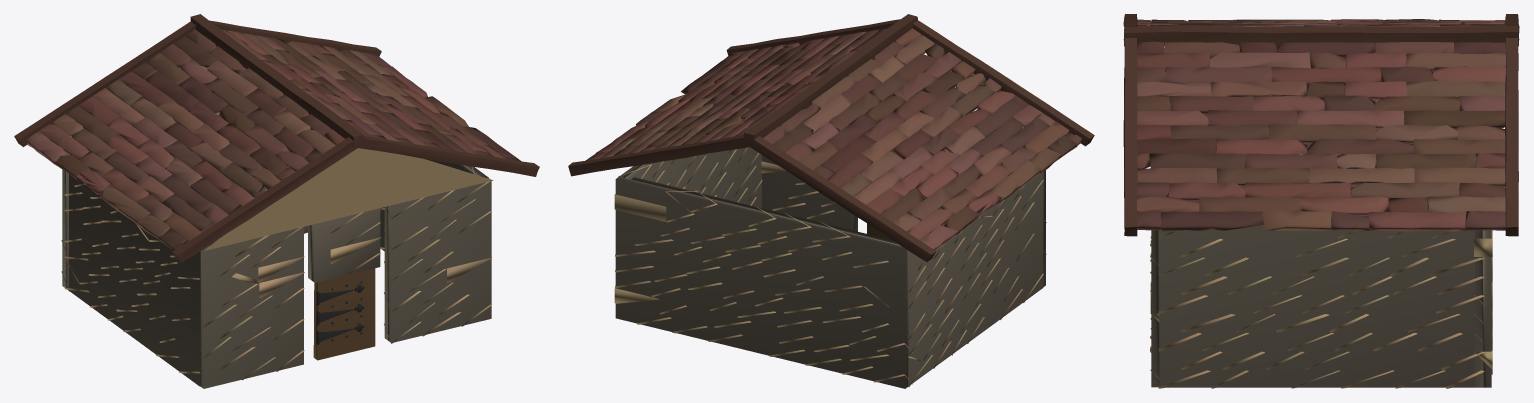
Rendered from stone_cottage_low_batched.glb.
The picture shows the model from 3 angles, left to right: view 1: azimuth 30°, elevation 25°; view 2: azimuth 150°, elevation 25°; view 3: azimuth 270°, elevation 25°; orthographic projection. The views are drawn at different scales.
Parts seen in each view (by area): view 1: stone_cottage_low; view 2: stone_cottage_low; view 3: stone_cottage_low.
Part boxes in pixels (left/top/right/bottom): stone_cottage_low: left=14, top=14, right=539, bottom=388; stone_cottage_low: left=568, top=14, right=1094, bottom=388; stone_cottage_low: left=1123, top=14, right=1519, bottom=388.
Size of the model in its own units: 6.5 by 3.9 by 5.09.
